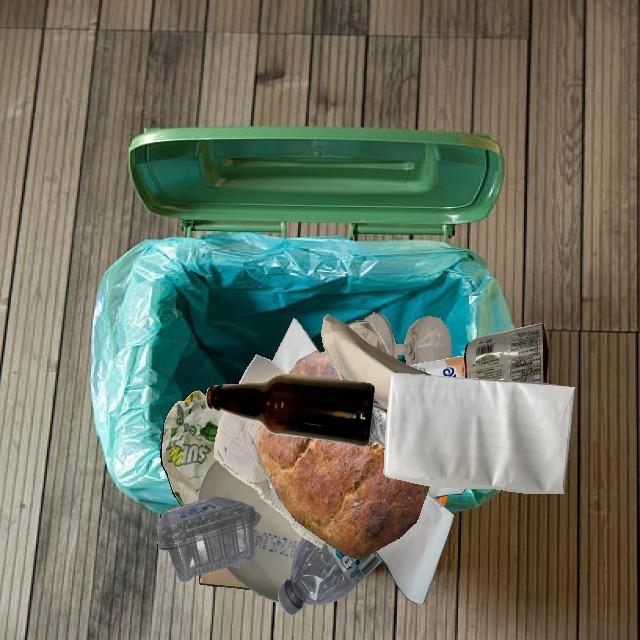biowaste: (256, 423, 429, 560), (438, 495, 448, 506)
glass: (205, 374, 374, 446), (363, 312, 451, 366), (347, 320, 390, 355), (409, 356, 464, 378), (368, 407, 387, 448)
paper: (384, 372, 575, 494), (214, 411, 324, 548), (321, 314, 432, 414), (375, 486, 466, 604), (160, 390, 224, 506), (272, 318, 321, 374), (199, 567, 251, 590)
plastic: (198, 460, 303, 603), (157, 496, 260, 582), (278, 537, 382, 615), (463, 323, 549, 384)
